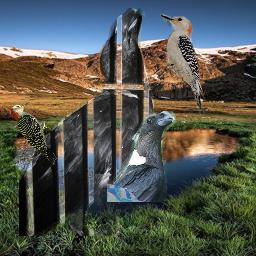Crow: (19, 8, 154, 236), (107, 111, 176, 202)
Woodpecker: (159, 10, 207, 115), (9, 102, 58, 166)
